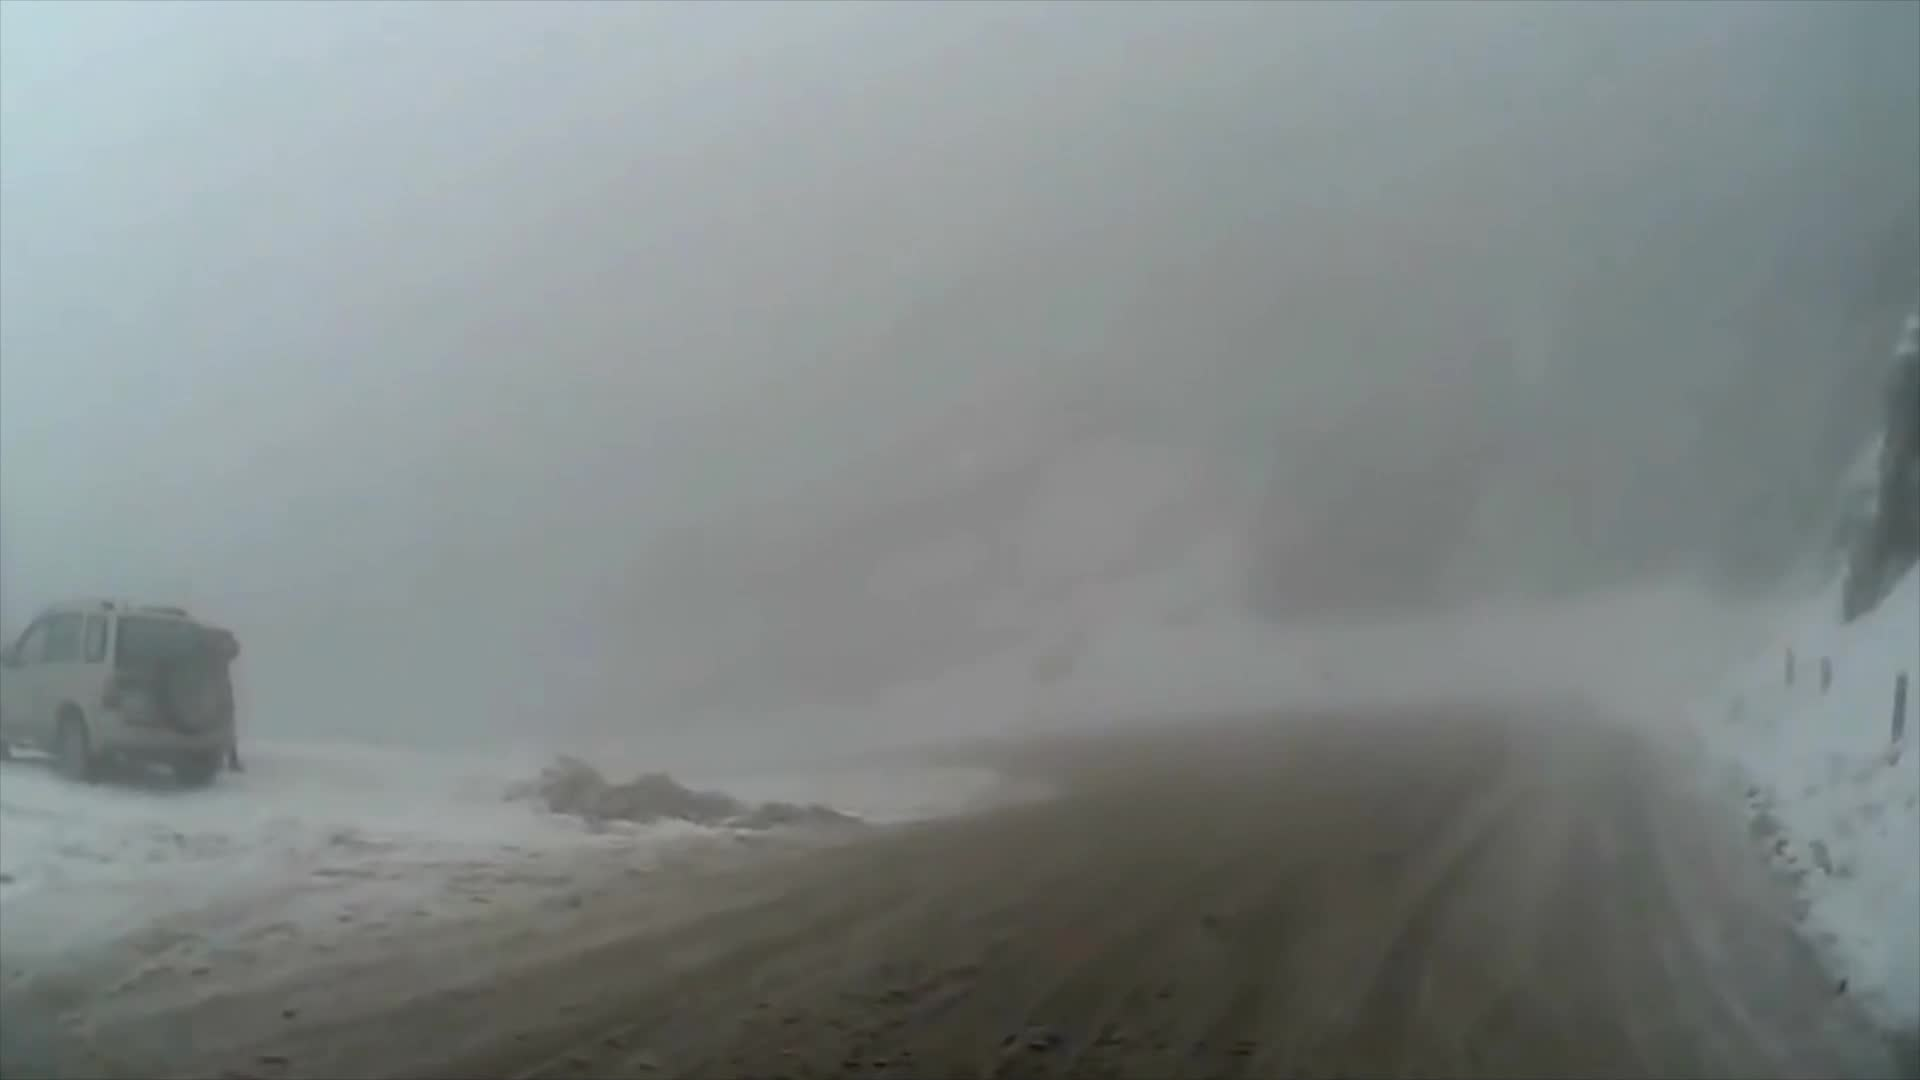vehicle: (1, 601, 227, 791)
